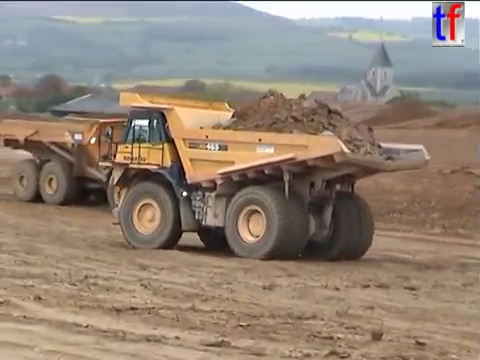truck: (87, 89, 431, 262), (1, 111, 218, 206)
